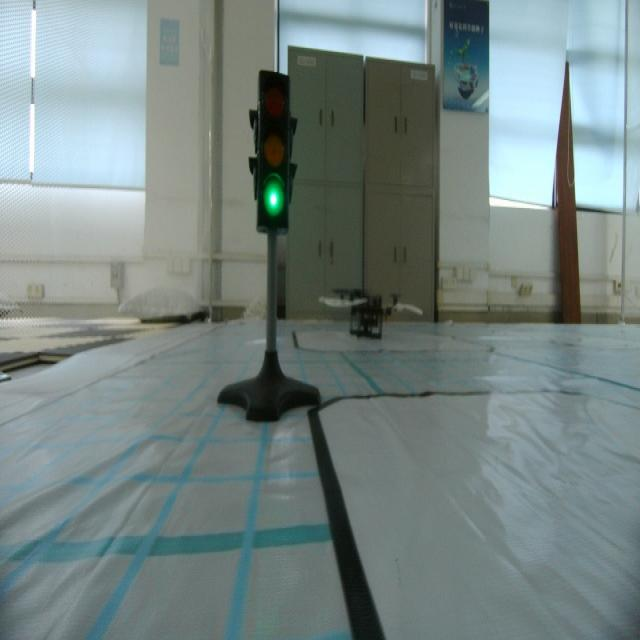green: (248, 68, 298, 239)
